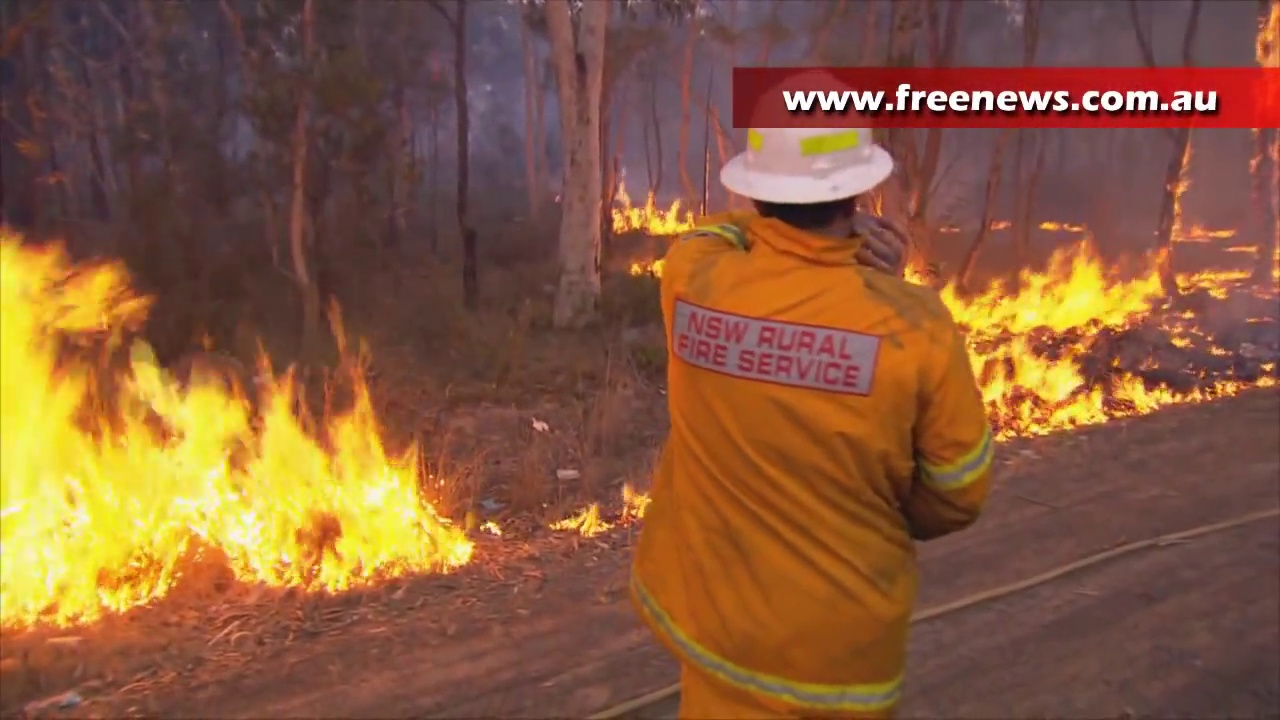fire: (3, 238, 471, 624), (946, 243, 1253, 424), (557, 487, 648, 539), (619, 195, 694, 233), (1256, 1, 1280, 67)
